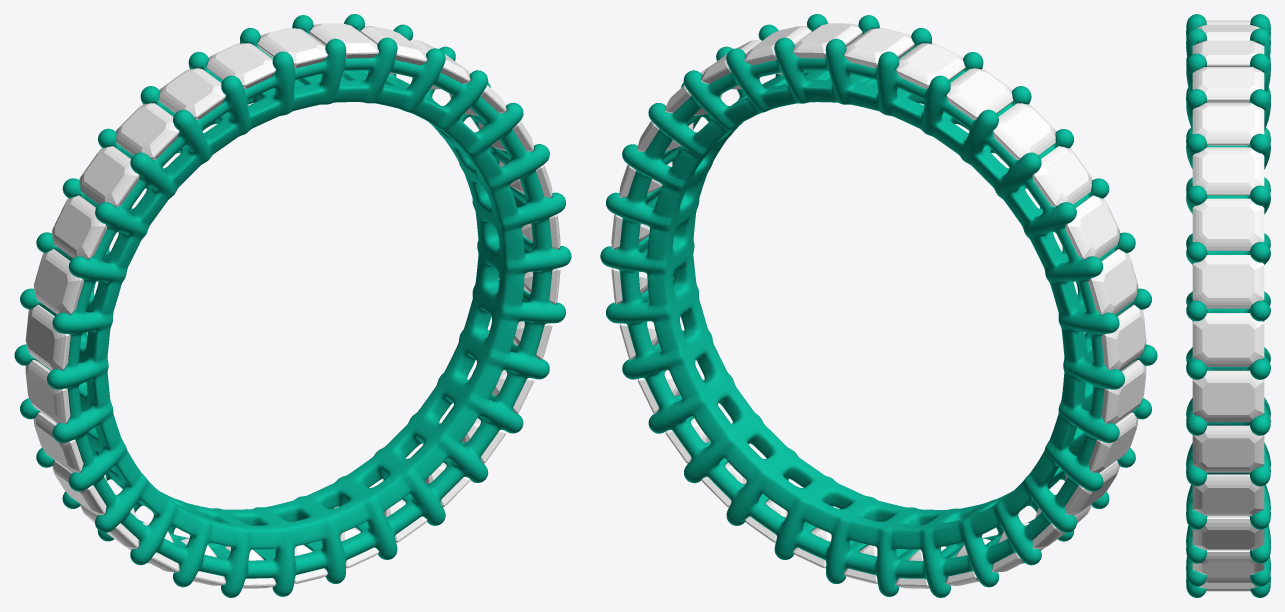
The model's file is BE2DRA200ELC_RENDER.glb.
3 renders of one model, left to right at view 1: azimuth 30°, elevation 25°; view 2: azimuth 150°, elevation 25°; view 3: azimuth 270°, elevation 25°, orthographic. The views are drawn at different scales.
Parts seen in each view (by area): view 1: Metal03, Diamond_Emerald_Gem_BD.004, Diamond_Emerald_Gem_BD.003, Diamond_Emerald_Gem_BD.005, Diamond_Emerald_Gem_BD.002, Diamond_Emerald_Gem_BD.006, Diamond_Emerald_Gem_BD.001, Diamond_Emerald_Gem_BD.007, Diamond_Emerald_Gem_BD, Diamond_Emerald_Gem_BD.008, Diamond_Emerald_Gem_BD.029, Diamond_Emerald_Gem_BD.009 (+2 smaller); view 2: Metal03, Diamond_Emerald_Gem_BD.004, Diamond_Emerald_Gem_BD.003, Diamond_Emerald_Gem_BD.005, Diamond_Emerald_Gem_BD.002, Diamond_Emerald_Gem_BD.006, Diamond_Emerald_Gem_BD.001, Diamond_Emerald_Gem_BD.007, Diamond_Emerald_Gem_BD, Diamond_Emerald_Gem_BD.008, Diamond_Emerald_Gem_BD.029, Diamond_Emerald_Gem_BD.009 (+2 smaller); view 3: Metal03, Diamond_Emerald_Gem_BD.025, Diamond_Emerald_Gem_BD.024, Diamond_Emerald_Gem_BD.026, Diamond_Emerald_Gem_BD.023, Diamond_Emerald_Gem_BD.027, Diamond_Emerald_Gem_BD.022, Diamond_Emerald_Gem_BD.028, Diamond_Emerald_Gem_BD.021, Diamond_Emerald_Gem_BD.029, Diamond_Emerald_Gem_BD.020, Diamond_Emerald_Gem_BD (+4 smaller).
Part boxes in pixels (left/top/right/bottom): Metal03: left=14, top=14, right=571, bottom=597; Diamond_Emerald_Gem_BD.004: left=79, top=146, right=139, bottom=207; Diamond_Emerald_Gem_BD.003: left=116, top=103, right=179, bottom=159; Diamond_Emerald_Gem_BD.005: left=52, top=195, right=106, bottom=259; Diamond_Emerald_Gem_BD.002: left=158, top=68, right=225, bottom=119; Diamond_Emerald_Gem_BD.006: left=33, top=249, right=83, bottom=314; Diamond_Emerald_Gem_BD.001: left=206, top=43, right=275, bottom=88; Diamond_Emerald_Gem_BD.007: left=25, top=304, right=70, bottom=370; Diamond_Emerald_Gem_BD: left=257, top=28, right=328, bottom=68; Diamond_Emerald_Gem_BD.008: left=25, top=360, right=70, bottom=423; Diamond_Emerald_Gem_BD.029: left=309, top=23, right=379, bottom=58; Diamond_Emerald_Gem_BD.009: left=33, top=412, right=83, bottom=472; Metal03: left=600, top=14, right=1157, bottom=597; Diamond_Emerald_Gem_BD.004: left=1032, top=146, right=1092, bottom=207; Diamond_Emerald_Gem_BD.003: left=992, top=103, right=1055, bottom=159; Diamond_Emerald_Gem_BD.005: left=1065, top=195, right=1119, bottom=259; Diamond_Emerald_Gem_BD.002: left=946, top=68, right=1013, bottom=119; Diamond_Emerald_Gem_BD.006: left=1088, top=249, right=1138, bottom=314; Diamond_Emerald_Gem_BD.001: left=896, top=43, right=965, bottom=88; Diamond_Emerald_Gem_BD.007: left=1101, top=304, right=1146, bottom=370; Diamond_Emerald_Gem_BD: left=843, top=28, right=914, bottom=68; Diamond_Emerald_Gem_BD.008: left=1101, top=360, right=1146, bottom=423; Diamond_Emerald_Gem_BD.029: left=792, top=23, right=862, bottom=58; Diamond_Emerald_Gem_BD.009: left=1088, top=412, right=1138, bottom=472; Metal03: left=1186, top=14, right=1270, bottom=597; Diamond_Emerald_Gem_BD.025: left=1192, top=255, right=1264, bottom=308; Diamond_Emerald_Gem_BD.024: left=1192, top=313, right=1264, bottom=366; Diamond_Emerald_Gem_BD.026: left=1192, top=198, right=1264, bottom=250; Diamond_Emerald_Gem_BD.023: left=1192, top=370, right=1264, bottom=422; Diamond_Emerald_Gem_BD.027: left=1192, top=147, right=1264, bottom=195; Diamond_Emerald_Gem_BD.022: left=1192, top=425, right=1264, bottom=472; Diamond_Emerald_Gem_BD.028: left=1192, top=102, right=1264, bottom=145; Diamond_Emerald_Gem_BD.021: left=1192, top=474, right=1264, bottom=515; Diamond_Emerald_Gem_BD.029: left=1192, top=67, right=1264, bottom=102; Diamond_Emerald_Gem_BD.020: left=1192, top=516, right=1264, bottom=550; Diamond_Emerald_Gem_BD: left=1192, top=40, right=1264, bottom=66.
Size of the model in its own units: 21.69 by 21.59 by 3.14.
